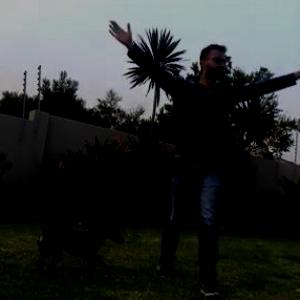takeoff: (125, 6, 295, 290)
